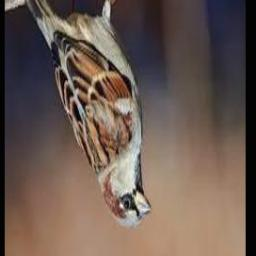Sparrow: (21, 0, 151, 228)
